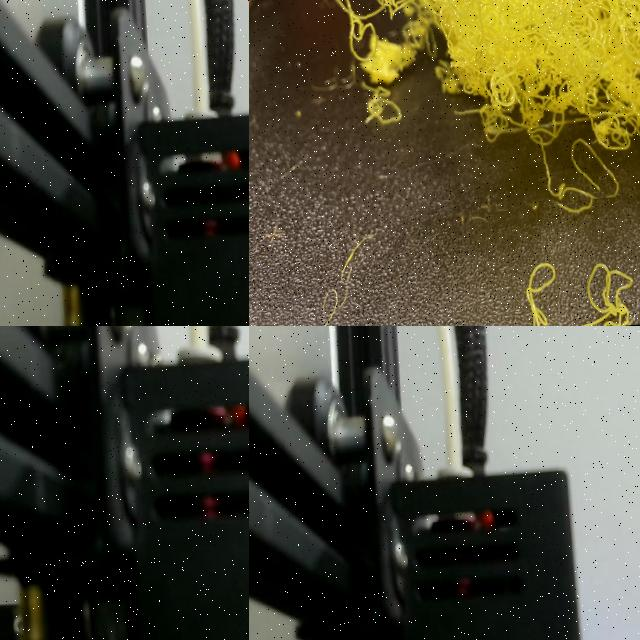spaghetti: (299, 0, 640, 230)
